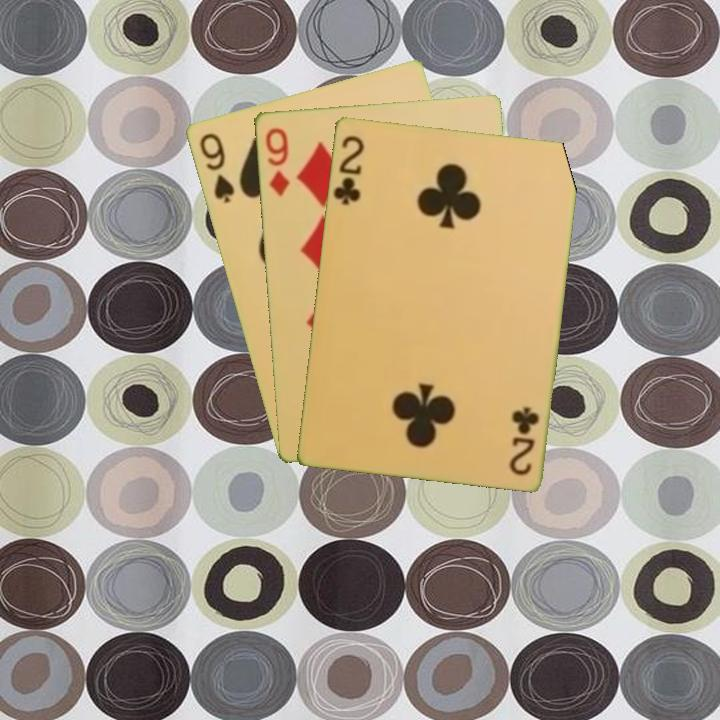2c: (329, 132, 367, 208), (505, 403, 542, 478)
9d: (262, 124, 292, 198)
9s: (195, 129, 237, 206)
